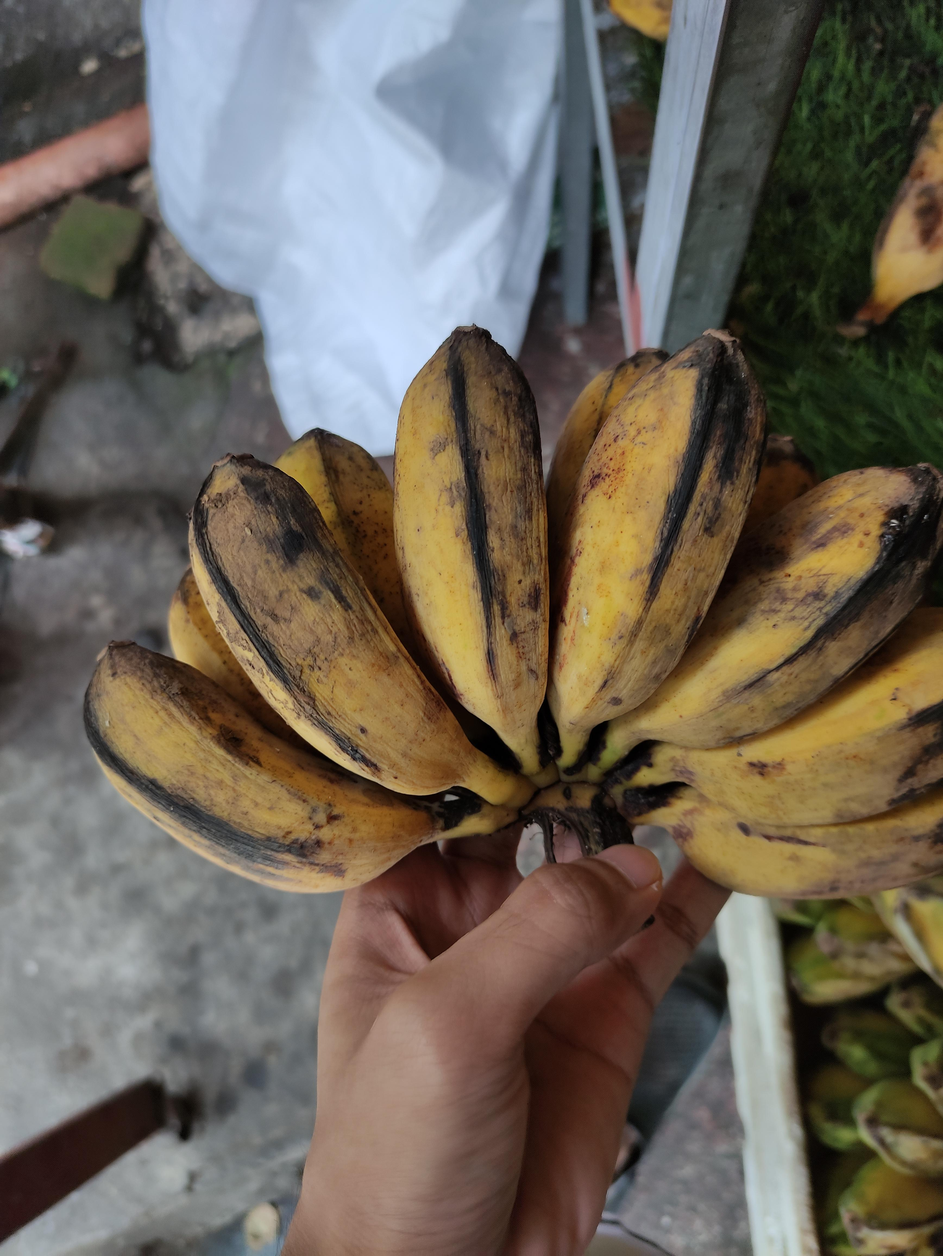ripe: (84, 328, 943, 898)
